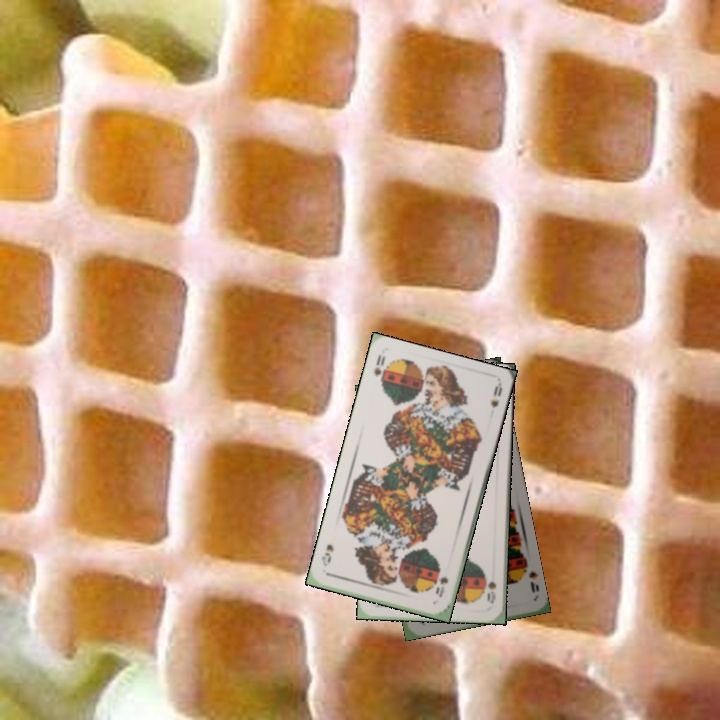S9: (517, 559, 542, 595)
SO: (431, 572, 451, 599), (370, 350, 388, 379), (483, 577, 499, 606)
